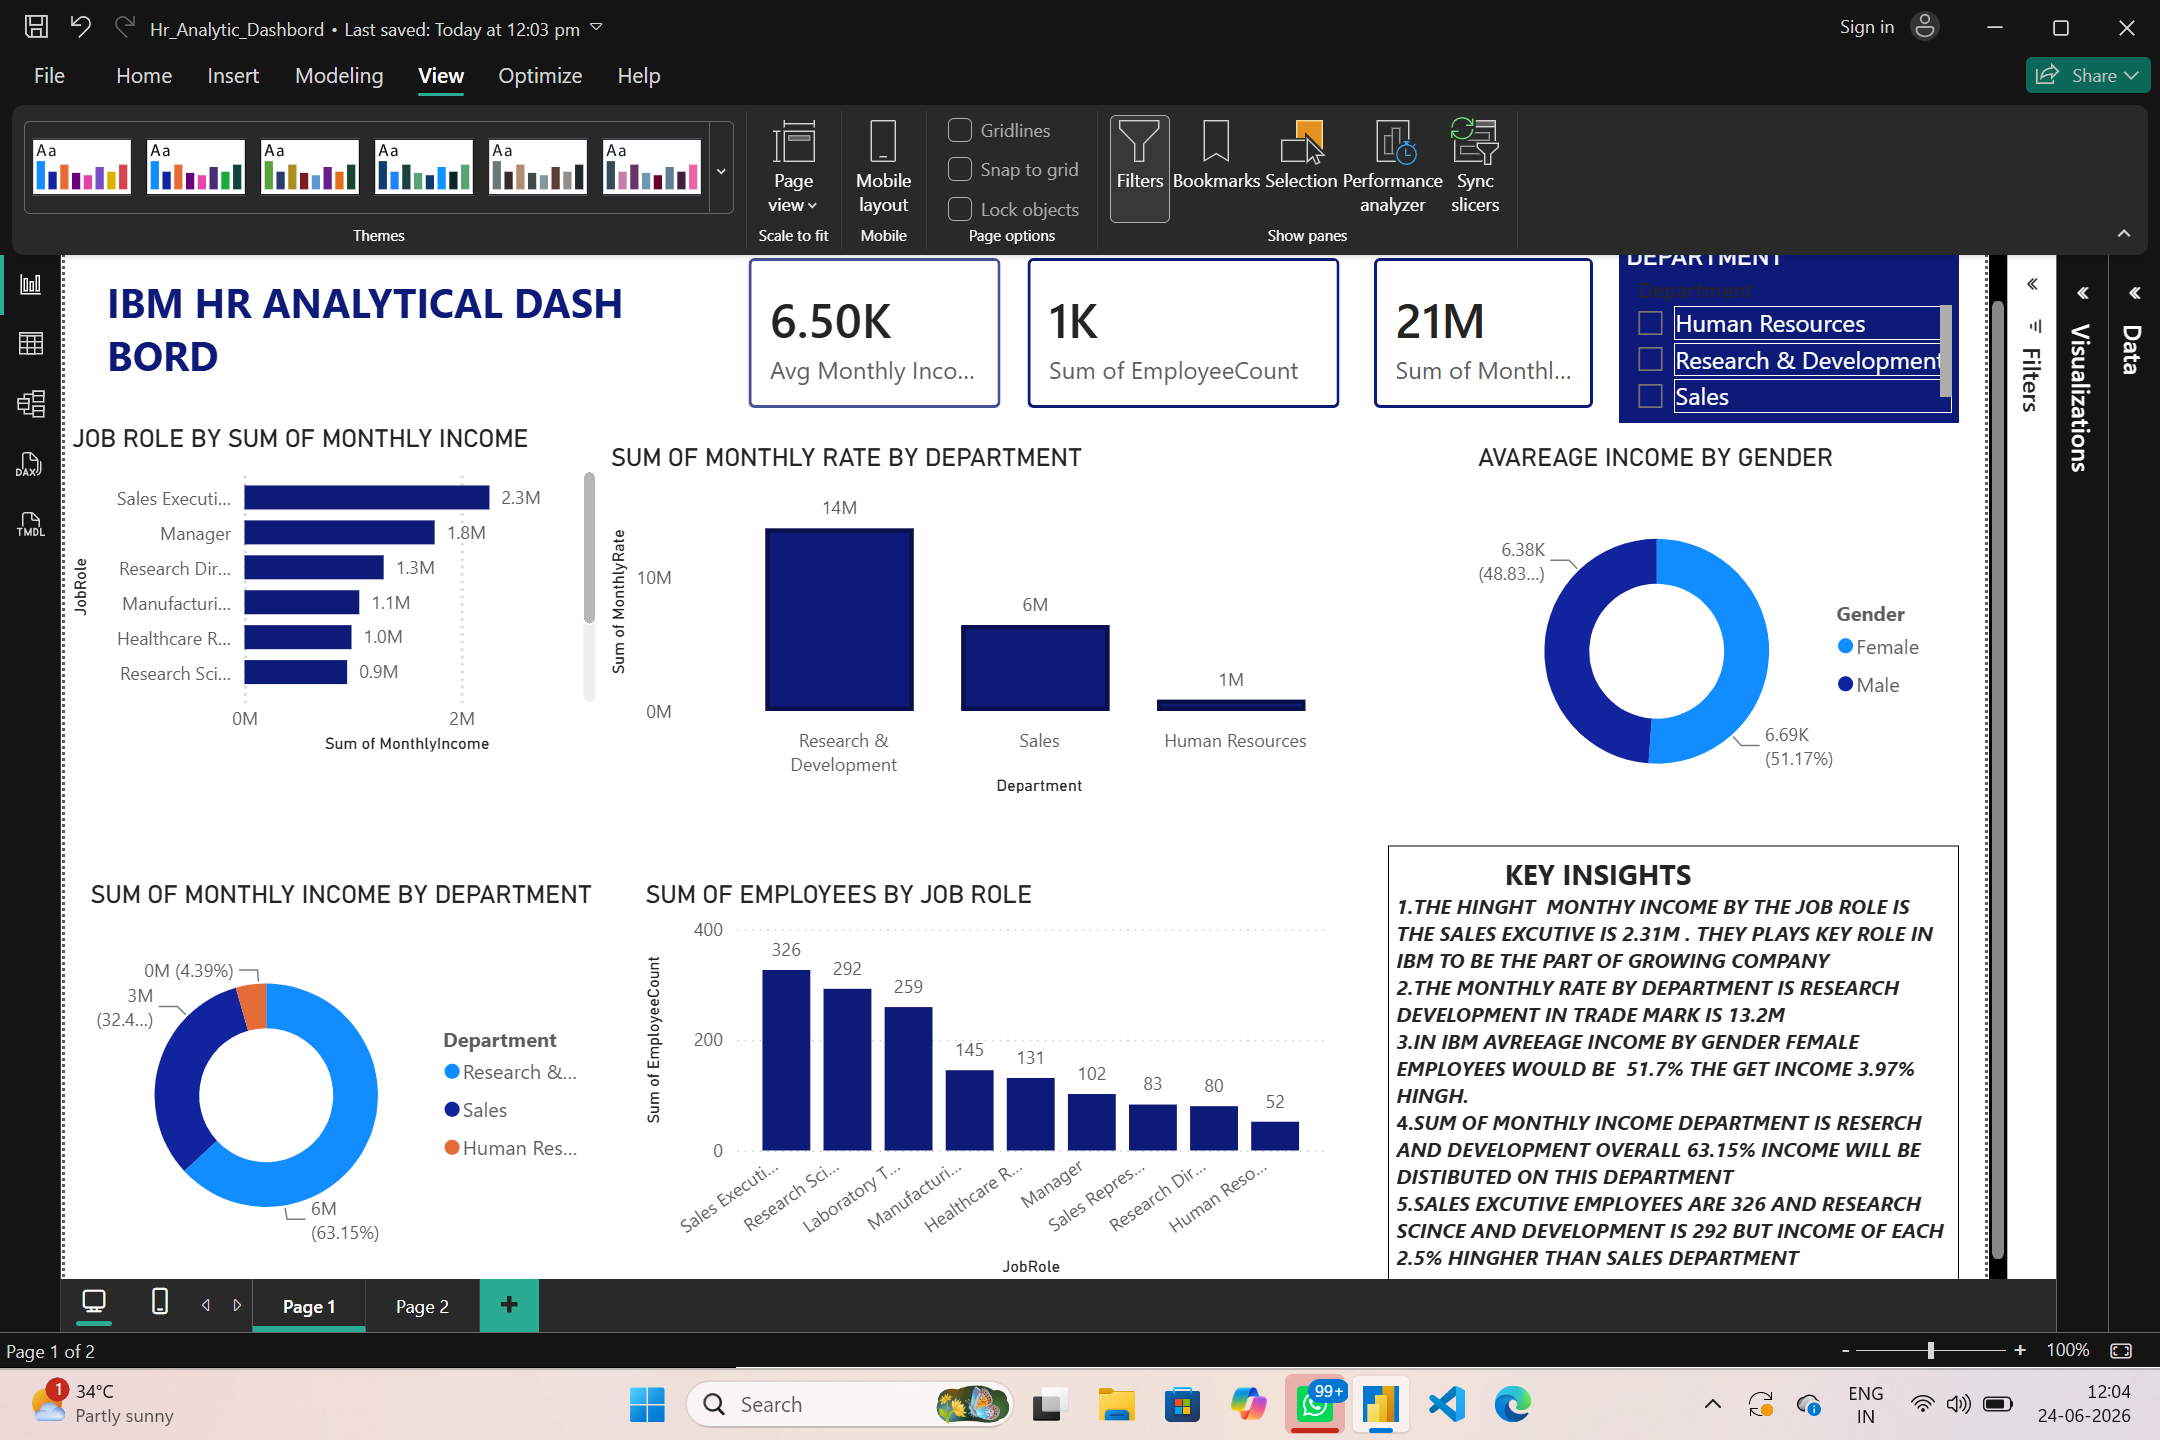

The dashboard page shown, as its layout file describes it:
{"tool":"powerbi","page":{"name":"Page 1","canvas":[1280,720],"ordinal":0},"visuals":[{"type":"clusteredBarChart","title":"JOB ROLE BY SUM OF MONTHLY INCOME","fields":{"Category":["hr_analytics.JobRole"],"Y":["Sum(hr_analytics.MonthlyIncome)"]},"box":[0,134.5,359.2,224.7],"z":0},{"type":"clusteredColumnChart","title":"SUM OF MONTHLY RATE BY  DEPARTMENT","fields":{"Y":["Sum(hr_analytics.MonthlyRate)"],"Category":["hr_analytics.Department"]},"box":[359.2,148.3,530.4,238.5],"z":1000},{"type":"donutChart","title":"AVAREAGE INCOME BY GENDER","fields":{"Category":["hr_analytics.Gender"],"Y":["hr_analytics.Avg Age","hr_analytics.Avg Monthly Income"]},"box":[937.1,148.3,314.9,258.3],"z":2000},{"type":"donutChart","title":"SUM OF MONTHLY INCOME BY DEPARTMENT","fields":{"Category":["hr_analytics.Department"],"Y":["Sum(hr_analytics.MonthlyIncome)"]},"box":[12.2,438.7,347,269],"z":3000},{"type":"clusteredColumnChart","title":"SUM OF EMPLOYEES BY JOB ROLE ","fields":{"Y":["Sum(hr_analytics.EmployeeCount)"],"Category":["hr_analytics.JobRole"]},"box":[382.2,438.7,463.2,269],"z":4000},{"type":"textbox","box":[882,417.3,380.6,290.4],"z":5000},{"type":"slicer","title":"DEPARTMENT","fields":{"Values":["hr_analytics.Department"]},"box":[1036.4,13.8,226.2,120.8],"z":6000},{"type":"textbox","box":[22.9,30.6,415.8,93.2],"z":7000},{"type":"cardVisual","fields":{"Data":["hr_analytics.Avg Monthly Income"]},"box":[438.7,7.6,201.8,134.5],"z":8000},{"type":"cardVisual","fields":{"Data":["Sum(hr_analytics.EmployeeCount)"]},"box":[625.2,7.6,241.5,134.5],"z":9000},{"type":"cardVisual","fields":{"Data":["Sum(hr_analytics.MonthlyRate)"]},"box":[856.1,7.6,180.4,134.5],"z":10000}]}

Visuals, with their boxes on the page's 1280x720 design canvas (x1, y1, x2, y2). These are canvas units, not pixel positions in the 2160x1440 screenshot, which may show the page scaled, cropped or inside an application window:
"JOB ROLE BY SUM OF MONTHLY INCOME" clusteredBarChart: (x1=0, y1=134, x2=359, y2=359)
"SUM OF MONTHLY RATE BY  DEPARTMENT" clusteredColumnChart: (x1=359, y1=148, x2=890, y2=387)
"AVAREAGE INCOME BY GENDER" donutChart: (x1=937, y1=148, x2=1252, y2=407)
"SUM OF MONTHLY INCOME BY DEPARTMENT" donutChart: (x1=12, y1=439, x2=359, y2=708)
"SUM OF EMPLOYEES BY JOB ROLE " clusteredColumnChart: (x1=382, y1=439, x2=845, y2=708)
textbox: (x1=882, y1=417, x2=1263, y2=708)
"DEPARTMENT" slicer: (x1=1036, y1=14, x2=1263, y2=135)
textbox: (x1=23, y1=31, x2=439, y2=124)
cardVisual - hr_analytics.Avg Monthly Income: (x1=439, y1=8, x2=640, y2=142)
cardVisual - Sum(hr_analytics.EmployeeCount): (x1=625, y1=8, x2=867, y2=142)
cardVisual - Sum(hr_analytics.MonthlyRate): (x1=856, y1=8, x2=1036, y2=142)
